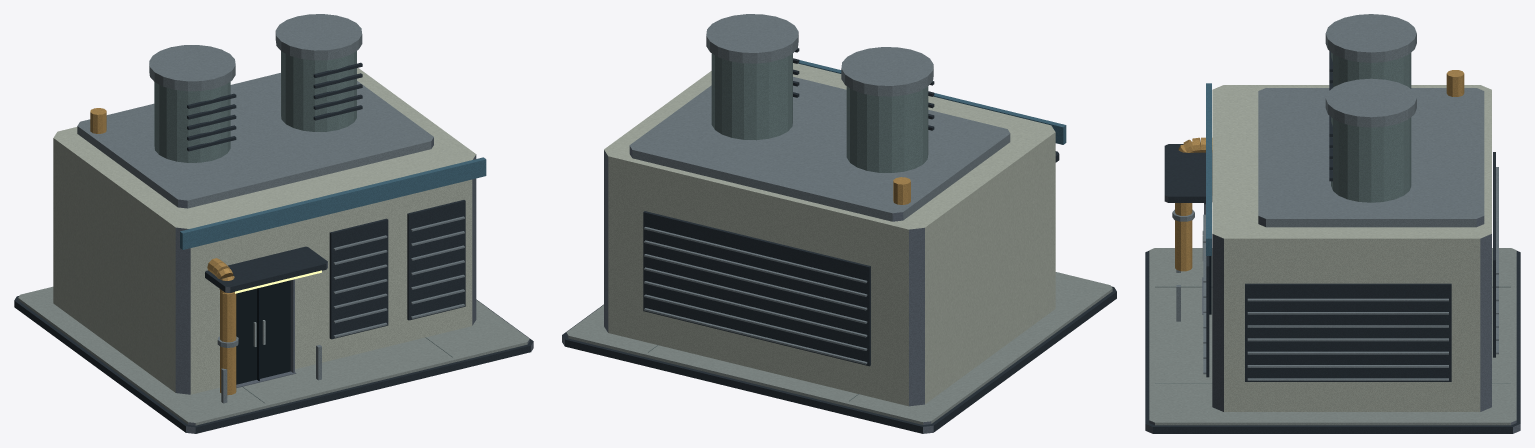
File: 03-tools-annex-03.glb
3 views of the same model, side by side, from view 1: azimuth 30°, elevation 25°; view 2: azimuth 150°, elevation 25°; view 3: azimuth 270°, elevation 25° (orthographic). The views are drawn at different scales.
Visible parts, largest first — view 1: factory_architecture; view 2: factory_architecture; view 3: factory_architecture.
Part boxes in pixels (x1,y1,x2,y2): factory_architecture: [14, 14, 533, 433]; factory_architecture: [562, 14, 1116, 433]; factory_architecture: [1145, 14, 1520, 433].
Bounding box in the file's own units: 11 × 8.05 × 9.8.
Materials: 2 (2 with a texture image).
